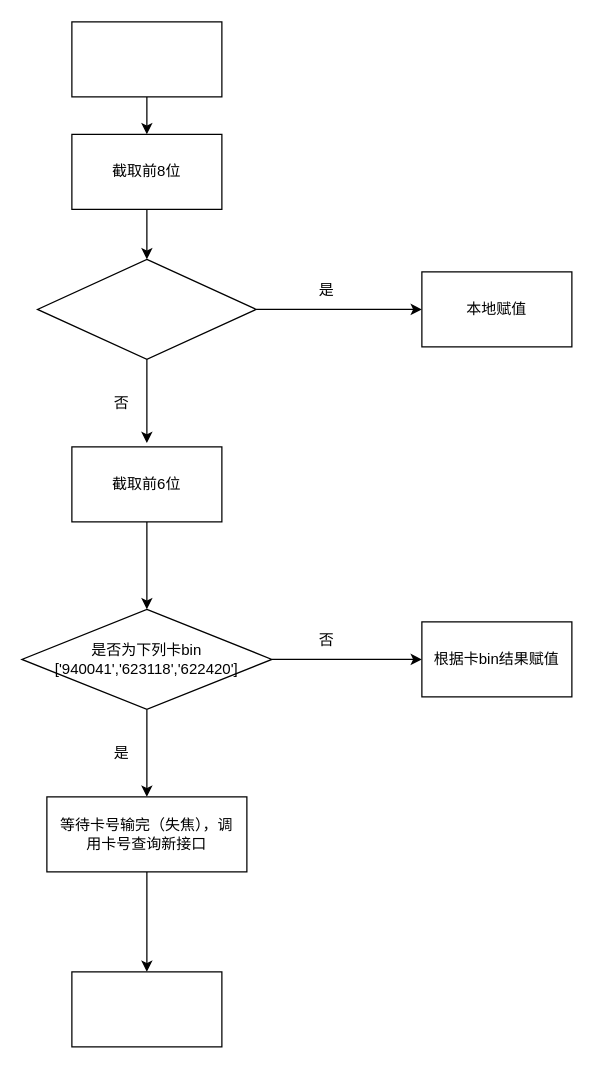
This 594x1069 diagram has some shape labels left out. Here are the shapes that lost their labels. From the top down, the centre of each, then its label:
At [146,59]: "输入卡号".
At [146,308]: "本地判断是否为村镇新发卡 ['62162301','62162302']".
At [146,1009]: "根据查询结果赋值".
